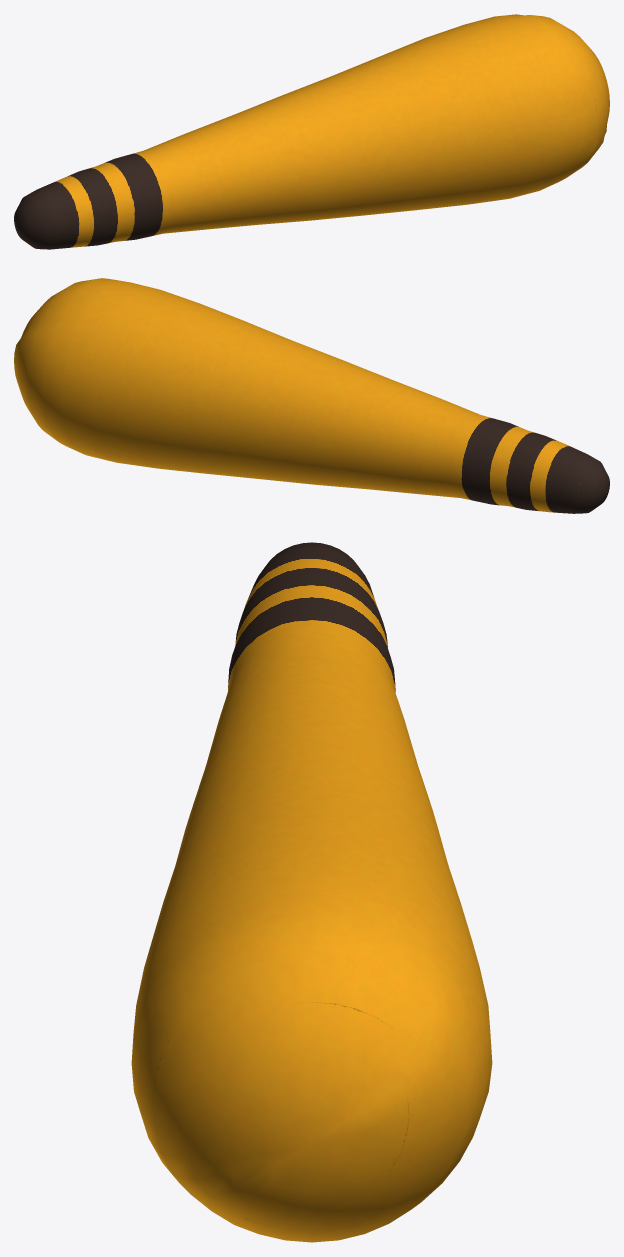
The model's file is sleeve-left.fbx.
3 renders of one model, top to bottom at view 1: azimuth 30°, elevation 25°; view 2: azimuth 150°, elevation 25°; view 3: azimuth 270°, elevation 25°, orthographic. The views are drawn at different scales.
Visible parts, largest first — view 1: sleeve-left; view 2: sleeve-left; view 3: sleeve-left.
Boxes of the visible parts, <box> form: sleeve-left: <box>14,14,609,249</box>; sleeve-left: <box>14,278,609,513</box>; sleeve-left: <box>131,542,492,1242</box>.
Size of the model in its own units: 66.5 by 17.82 by 17.9.
Materials: 1 (1 with a texture image).
